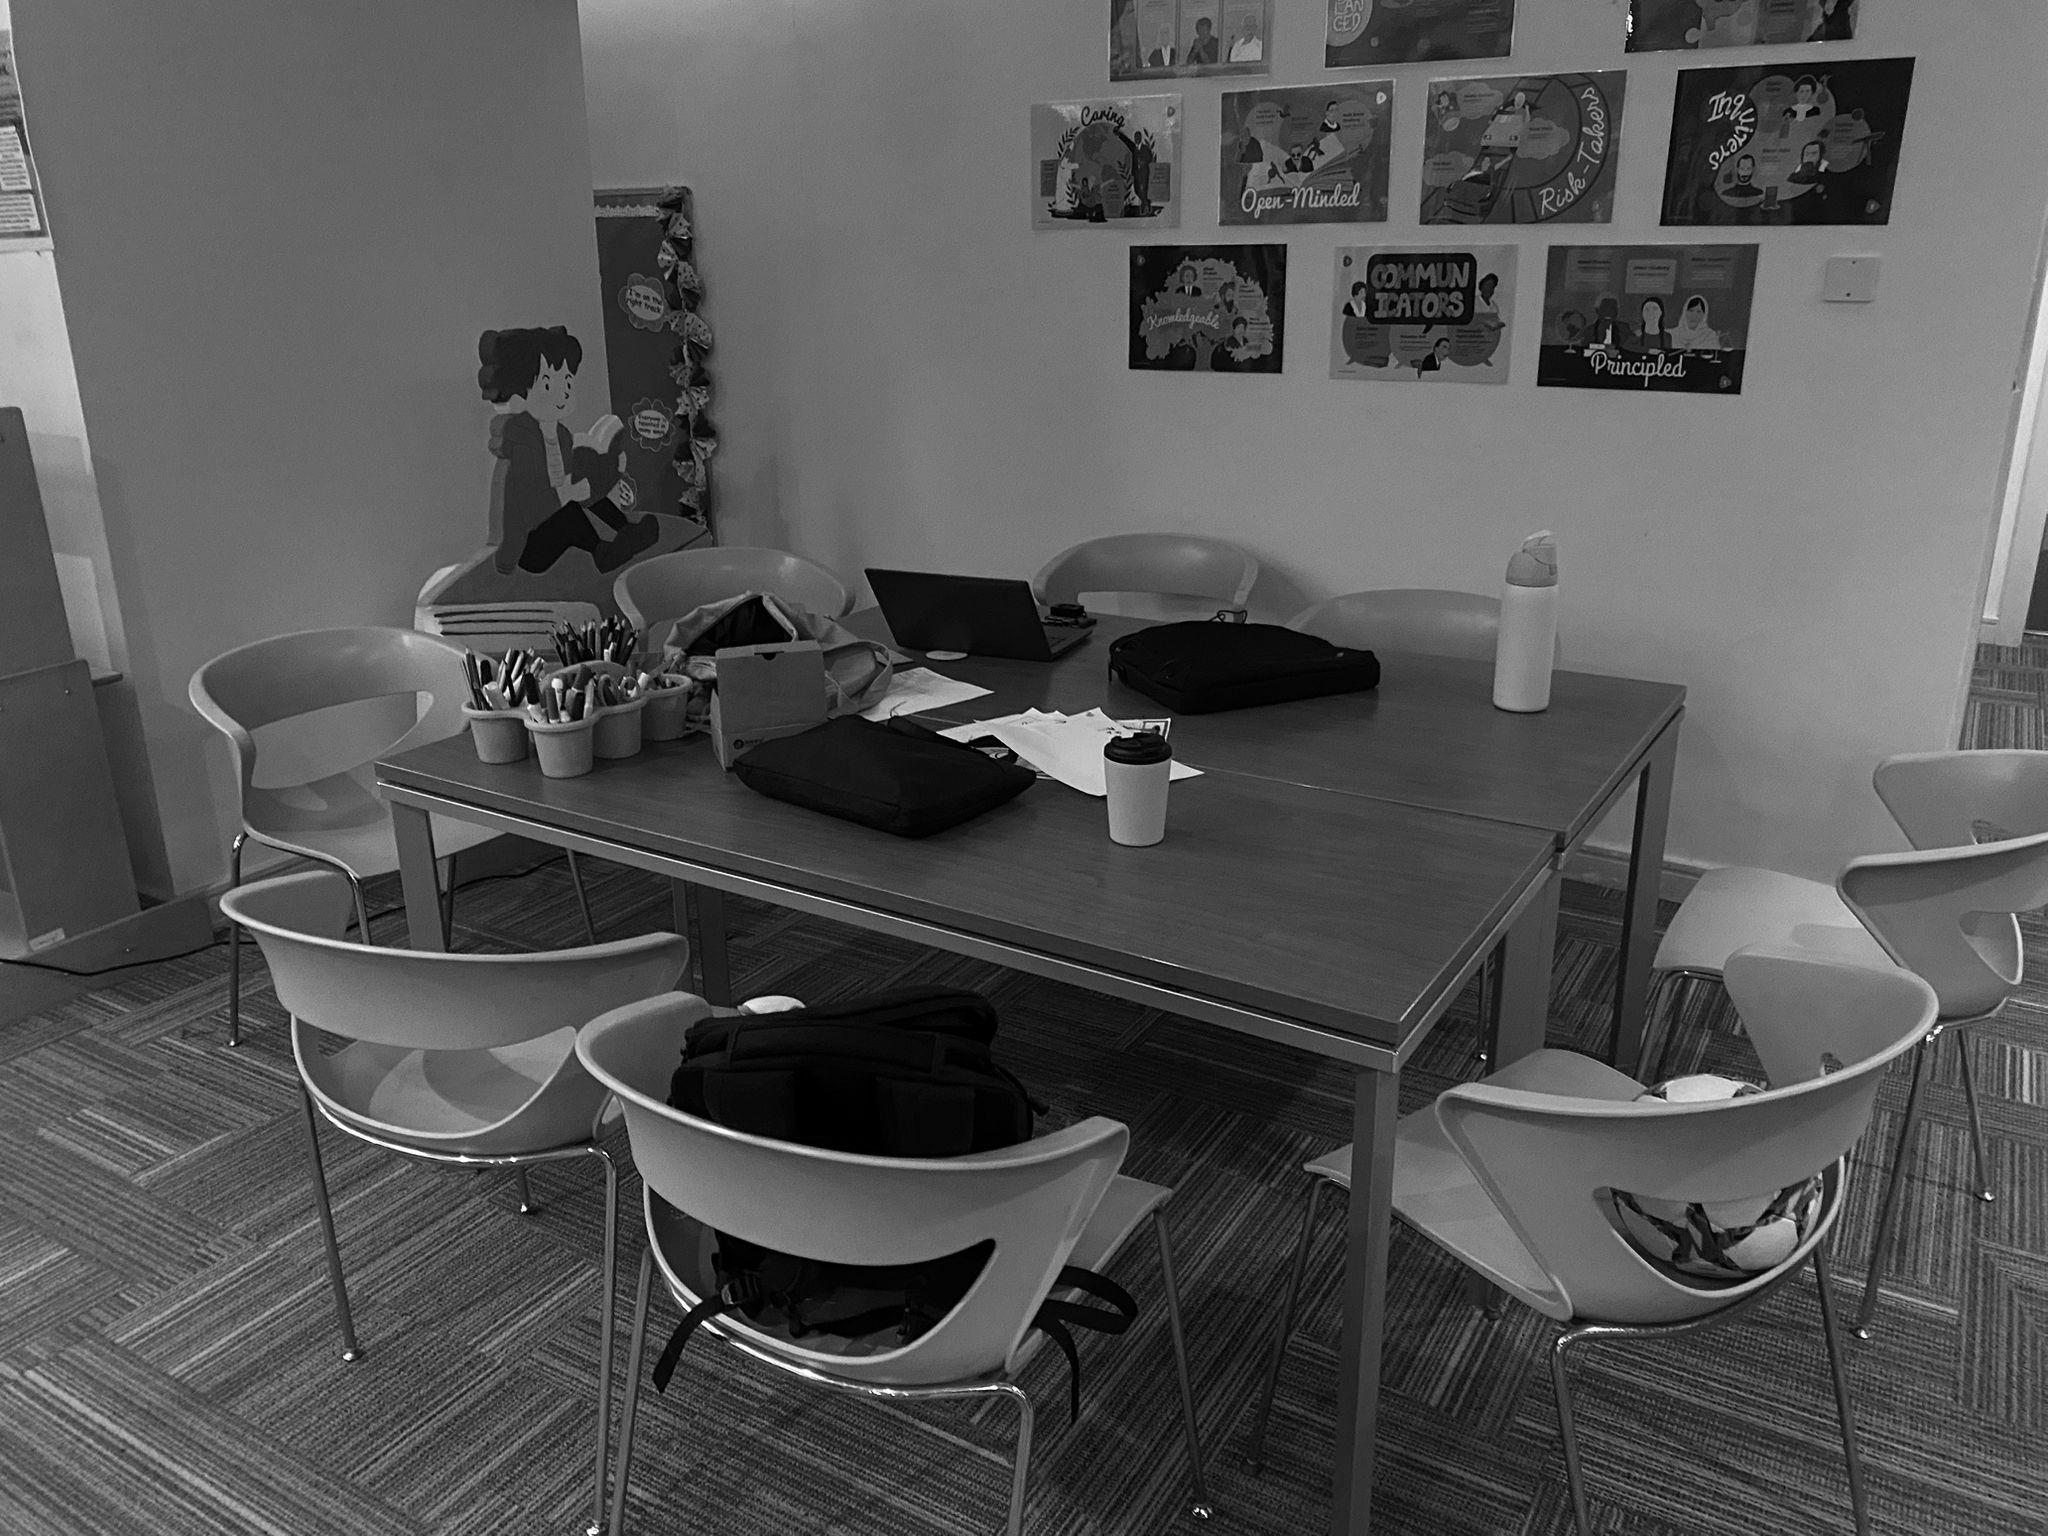Chair: (1393, 945, 1935, 1531), (226, 871, 687, 1517), (1651, 750, 2046, 1338), (190, 626, 468, 942), (614, 545, 855, 647), (1034, 532, 1259, 623), (1288, 591, 1500, 662), (432, 816, 498, 939), (227, 923, 240, 1046), (1638, 983, 1658, 1055)
Table: (376, 652, 1684, 1534), (951, 615, 1147, 716), (848, 608, 890, 642)
Wall: (582, 0, 2046, 874)
